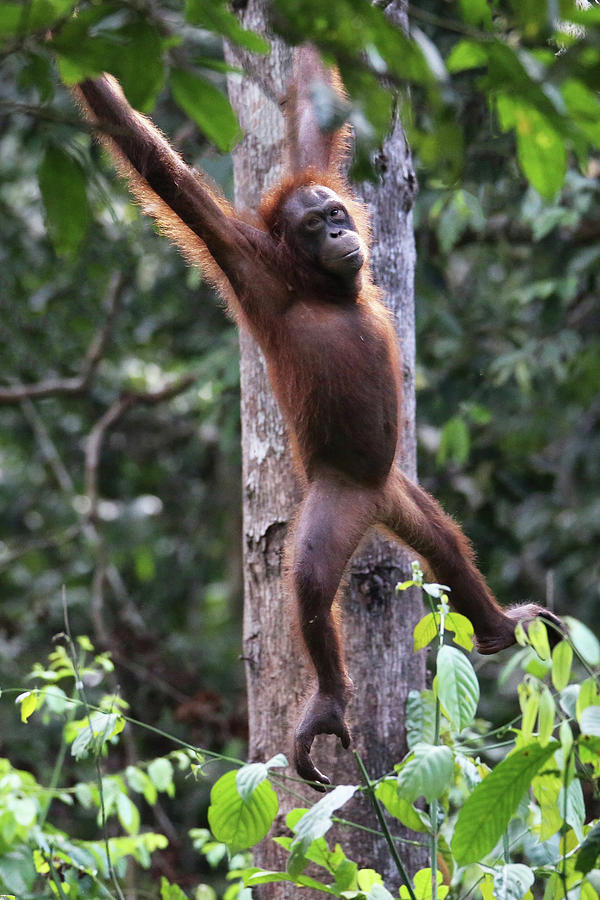Orangutan: (117, 124, 549, 712)
